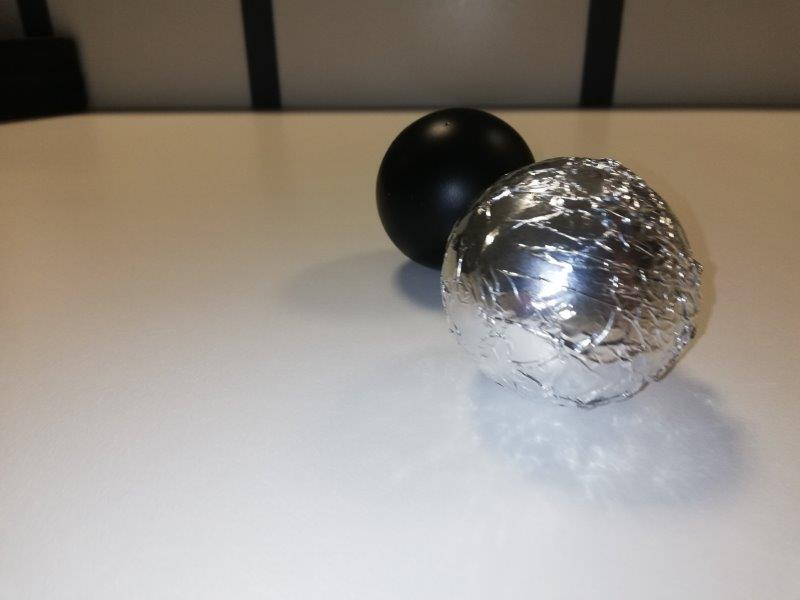bianca: (437, 155, 702, 409)
nera: (377, 109, 539, 271)
